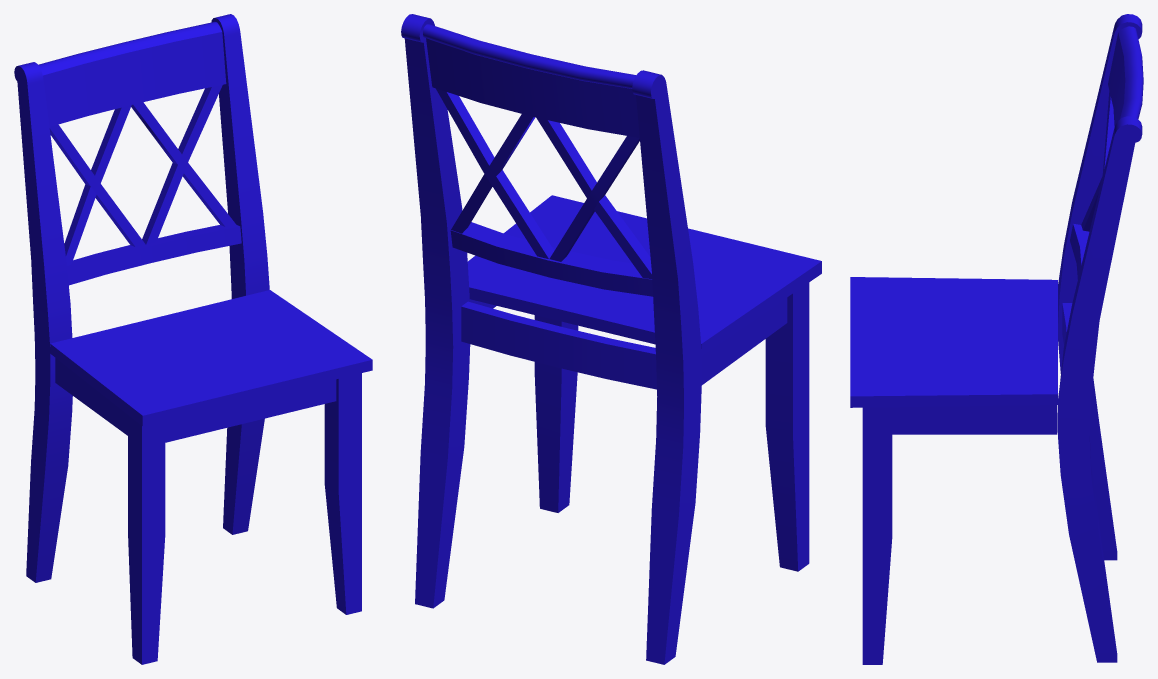
Rendered from Chair.fbx.
3 renders of one model, left to right at view 1: azimuth 30°, elevation 25°; view 2: azimuth 150°, elevation 25°; view 3: azimuth 270°, elevation 25°, orthographic. The views are drawn at different scales.
Visible parts, largest first — view 1: Chair_low.001; view 2: Chair_low.001; view 3: Chair_low.001.
Boxes of the visible parts, x1,y1,x2,y2 form: Chair_low.001: (14,14,372,664); Chair_low.001: (401,14,821,664); Chair_low.001: (850,14,1143,664).
Bounding box in the file's own units: 68.07 × 70.66 × 143.
